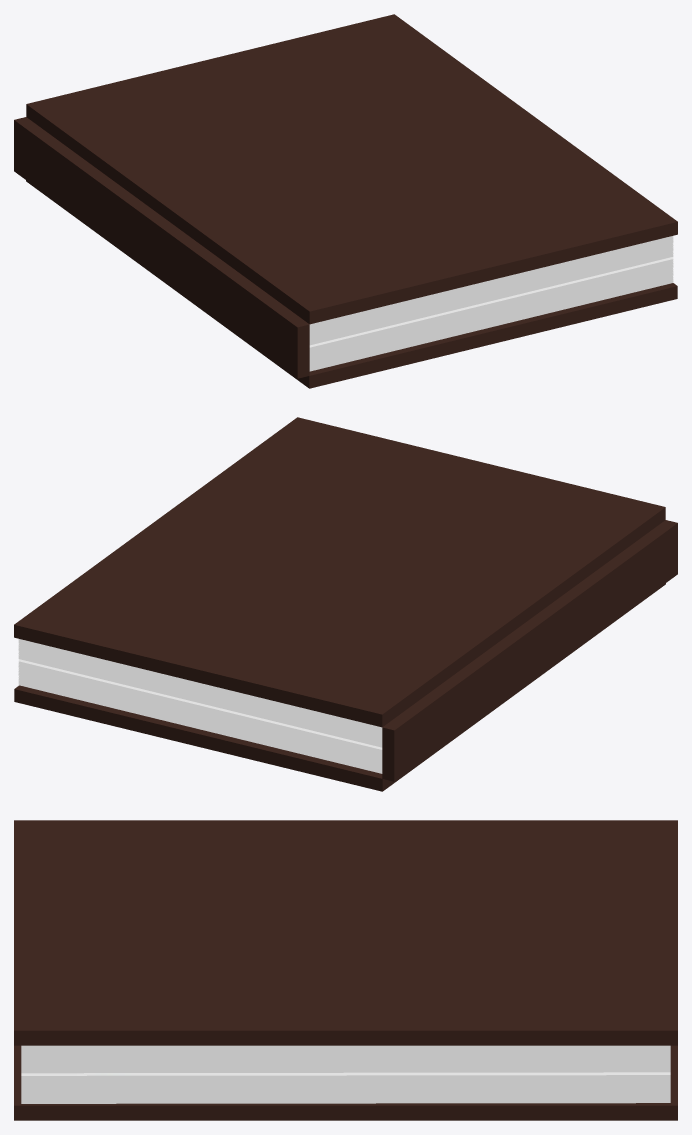
File: Libro.fbx
The picture shows the model from 3 angles, top to bottom: view 1: azimuth 30°, elevation 25°; view 2: azimuth 150°, elevation 25°; view 3: azimuth 270°, elevation 25°; orthographic projection. The views are drawn at different scales.
Visible parts, largest first — view 1: Cover L, Spine, Cover R, Plane.019, Plane.022, Plane.026, Plane.035, Plane.003, Plane.004, Plane.006, Plane.020, Plane.027 (+32 smaller); view 2: Cover L, Spine, Cover R, Plane.003, Plane.008, Plane.024, Plane.028, Plane.031, Plane.035, Plane, Plane.001, Plane.006 (+32 smaller); view 3: Cover L, Cover R, Plane.001, Plane.002, Plane.003, Plane.004, Plane.011, Plane.013, Plane.014, Plane.015, Plane.016, Plane.018 (+34 smaller).
Part boxes in pixels (<box>): Cover L: <box>26,14,677,324</box>; Spine: <box>14,117,309,378</box>; Cover R: <box>26,180,677,388</box>; Plane.019: <box>309,260,673,349</box>; Plane.022: <box>309,257,673,346</box>; Plane.026: <box>309,252,673,341</box>; Plane.035: <box>309,242,673,331</box>; Plane.003: <box>309,278,673,367</box>; Plane.004: <box>309,277,673,366</box>; Plane.006: <box>309,275,673,364</box>; Plane.020: <box>309,259,673,348</box>; Plane.027: <box>309,251,673,340</box>; Cover L: <box>14,417,665,727</box>; Spine: <box>382,520,677,781</box>; Cover R: <box>14,583,665,791</box>; Plane.003: <box>18,681,382,770</box>; Plane.008: <box>18,675,382,764</box>; Plane.024: <box>18,657,382,746</box>; Plane.028: <box>18,652,382,741</box>; Plane.031: <box>18,649,382,738</box>; Plane.035: <box>18,644,382,733</box>; Plane: <box>18,684,382,773</box>; Plane.001: <box>18,683,382,772</box>; Plane.006: <box>18,677,382,766</box>; Cover L: <box>14,820,677,1045</box>; Cover R: <box>14,1045,677,1120</box>; Plane.001: <box>21,1100,670,1102</box>; Plane.002: <box>21,1099,670,1101</box>; Plane.003: <box>21,1097,670,1099</box>; Plane.004: <box>21,1096,670,1098</box>; Plane.011: <box>21,1087,670,1089</box>; Plane.013: <box>21,1084,670,1086</box>; Plane.014: <box>21,1083,670,1085</box>; Plane.015: <box>21,1081,670,1083</box>; Plane.016: <box>21,1080,670,1082</box>; Plane.018: <box>21,1077,670,1079</box>.
Bounding box in the file's own units: 155 × 30 × 200.
